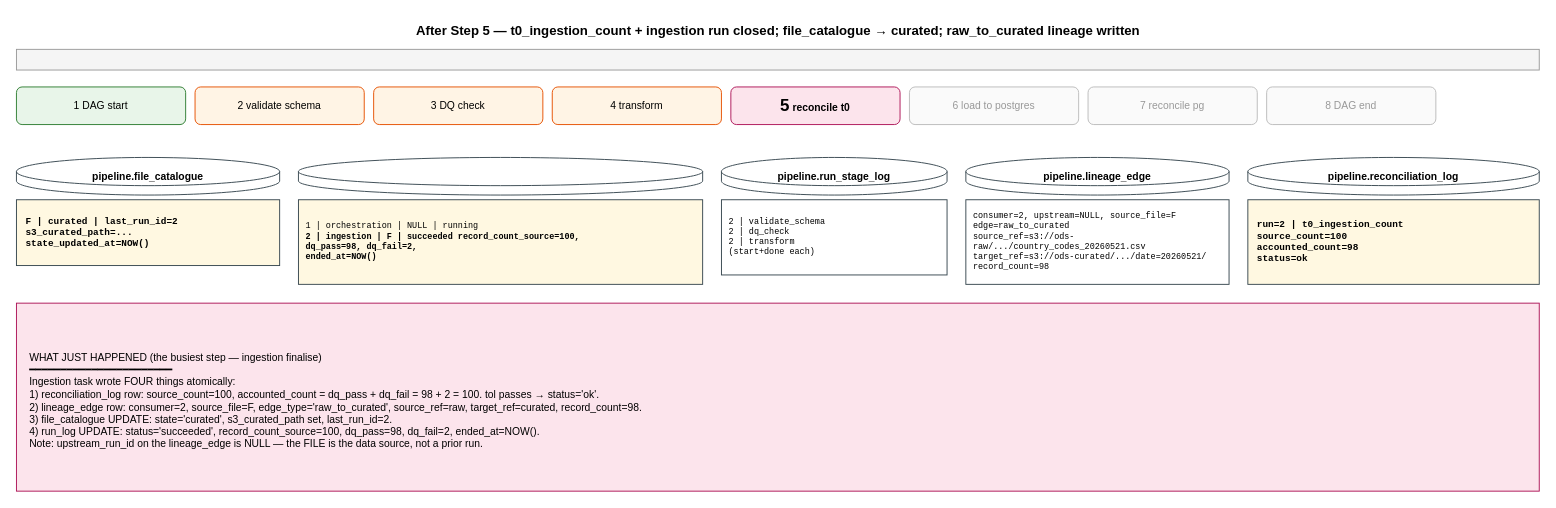
This 1556x508 diagram has some shape labels left out. Here are the shapes that lost their labels. From the top down, the centre of each, then its label:
At (777,59): "UUIDs equal step numbers: orchestration=1, ingestion=2, load=6. file_id=F.".
At (500,176): "pipeline.run_log".
